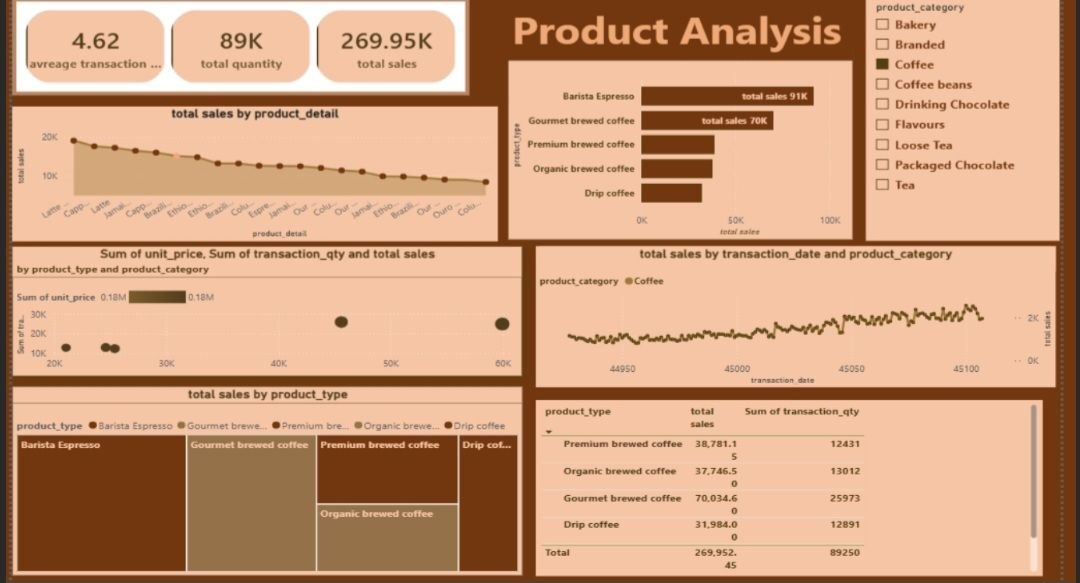

Layout of this report page (visuals, bound fields, positions):
{"tool":"powerbi","page":{"name":"product analysis ","canvas":[1326,900],"ordinal":1},"visuals":[{"type":"clusteredBarChart","fields":{"Category":["Sheet1.product_type"],"Y":["Sheet1.total sales"]},"box":[626.9,71.2,436.5,278.8],"z":0},{"type":"slicer","fields":{"Values":["Sheet1.product_category"]},"box":[1080,0,245.5,350.9],"z":1000},{"type":"cardVisual","fields":{"Data":["Sheet1.avreage transaction value","Sheet1.total quantity","Sheet1.total sales"]},"box":[0,0,578.8,140.4],"z":2000},{"type":"areaChart","fields":{"Category":["Sheet1.product_detail"],"Y":["Sheet1.total sales"]},"box":[0,156.4,614.5,194.5],"z":3000},{"type":"treemap","fields":{"Group":["Sheet1.product_type"],"Values":["Sheet1.total sales"]},"box":[0,561.5,646.2,273.1],"z":6000},{"type":"lineChart","fields":{"Category":["Sheet1.transaction_date"],"Y2":["Sheet1.total sales"],"Series":["Sheet1.product_category"]},"box":[663.6,358.2,658.2,203.6],"z":7000},{"type":"tableEx","fields":{"Values":["Sheet1.product_type","Sheet1.total sales","Sum(Sheet1.transaction_qty)"]},"box":[663.5,580.8,641.2,254.2],"z":8000},{"type":"scatterChart","fields":{"X":["Sum(Sheet1.unit_price)"],"Y":["Sum(Sheet1.transaction_qty)"],"Series":["Sheet1.product_category"],"Size":["Sheet1.total sales"],"Category":["Sheet1.product_type"]},"box":[0,358.2,645.5,187.3],"z":9000},{"type":"textbox","box":[626.9,3.8,436.5,86.5],"z":10000}]}

Visuals, with their boxes on the page's 1326x900 design canvas (x1, y1, x2, y2). These are canvas units, not pixel positions in the 1080x583 screenshot, which may show the page scaled, cropped or inside an application window:
clusteredBarChart - Sheet1.product_type x Sheet1.total sales: region(627, 71, 1063, 350)
slicer - Sheet1.product_category: region(1080, 0, 1326, 351)
cardVisual - Sheet1.avreage transaction value x Sheet1.total quantity: region(0, 0, 579, 140)
areaChart - Sheet1.product_detail x Sheet1.total sales: region(0, 156, 614, 351)
treemap - Sheet1.product_type x Sheet1.total sales: region(0, 562, 646, 835)
lineChart - Sheet1.transaction_date x Sheet1.total sales: region(664, 358, 1322, 562)
tableEx - Sheet1.product_type x Sheet1.total sales: region(664, 581, 1305, 835)
scatterChart - Sum(Sheet1.unit_price) x Sum(Sheet1.transaction_qty): region(0, 358, 646, 546)
textbox: region(627, 4, 1063, 90)
